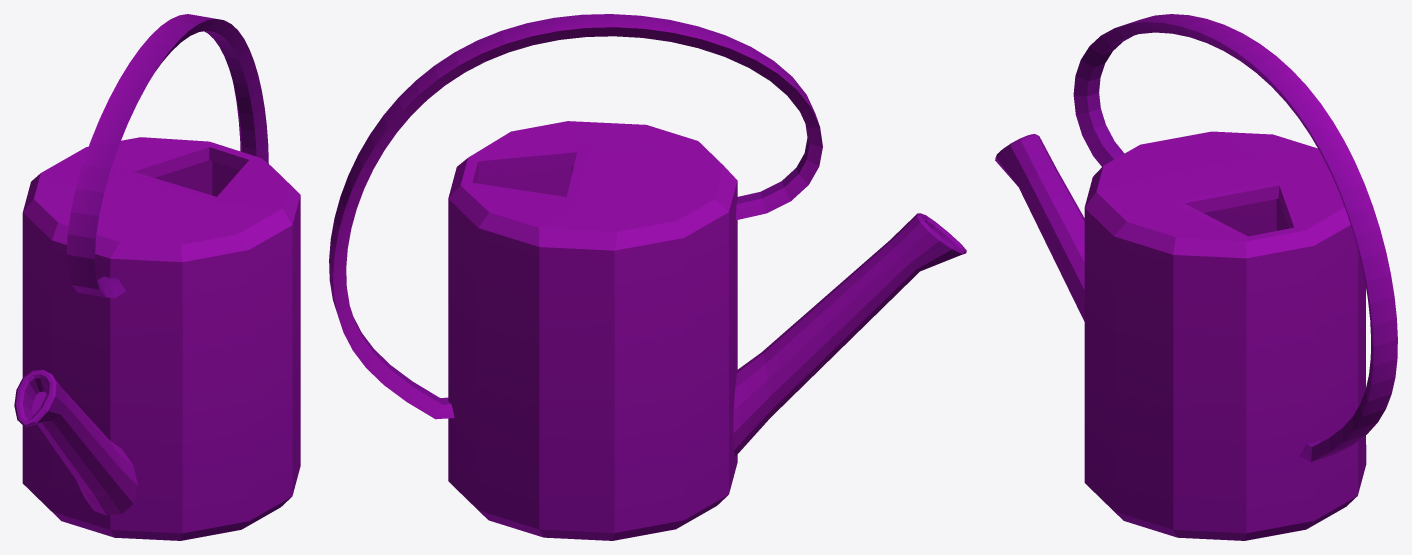
File: Leika.fbx
3 views of the same model, side by side, from view 1: azimuth 30°, elevation 25°; view 2: azimuth 150°, elevation 25°; view 3: azimuth 270°, elevation 25° (orthographic). The views are drawn at different scales.
Parts seen in each view (by area): view 1: Cylinder; view 2: Cylinder; view 3: Cylinder.
Boxes of the visible parts, x1,y1,x2,y2 form: Cylinder: [14, 14, 300, 540]; Cylinder: [329, 14, 966, 540]; Cylinder: [995, 14, 1397, 540].
Size of the model in its own units: 103 by 102 by 82.48.
